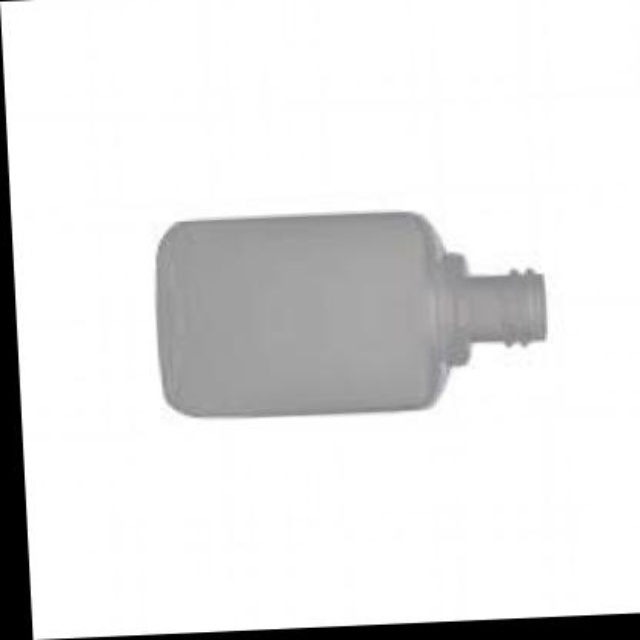trash: (3, 0, 638, 637), (154, 209, 548, 417), (157, 212, 545, 415)
